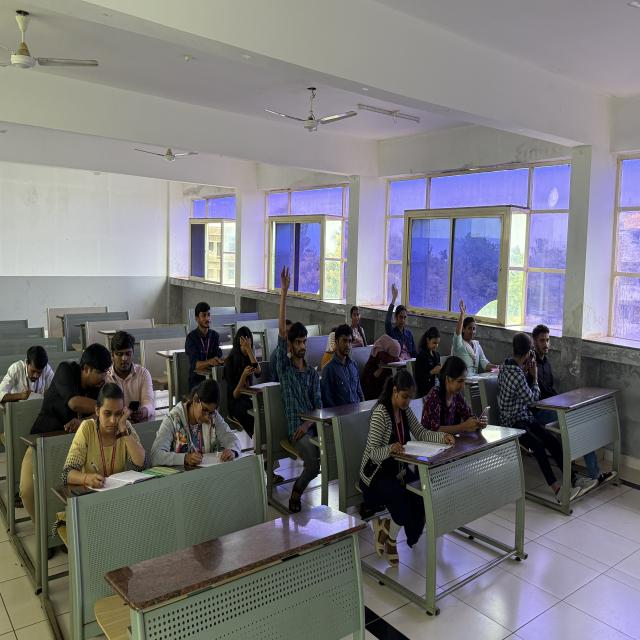Hand Rising: (266, 259, 336, 501), (444, 291, 502, 379)
Reading: (354, 366, 453, 554)
Sleeping: (358, 323, 418, 374)
Using Phone: (419, 354, 501, 452), (90, 324, 164, 422), (221, 322, 273, 411), (380, 271, 420, 347)
Writing: (143, 372, 261, 484), (0, 332, 65, 407)
